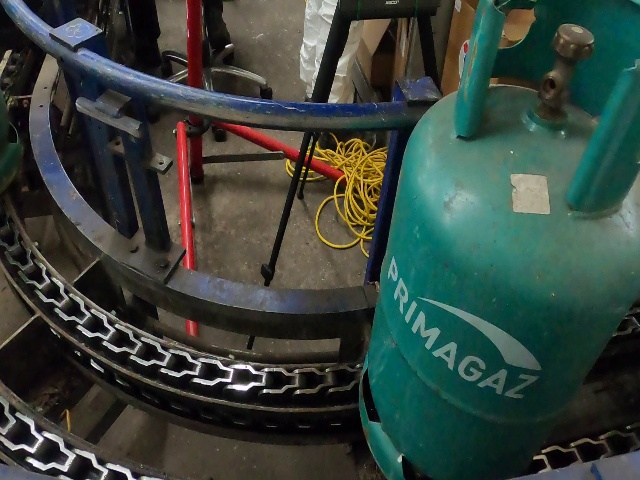gas_bottle: (2, 3, 640, 479)
